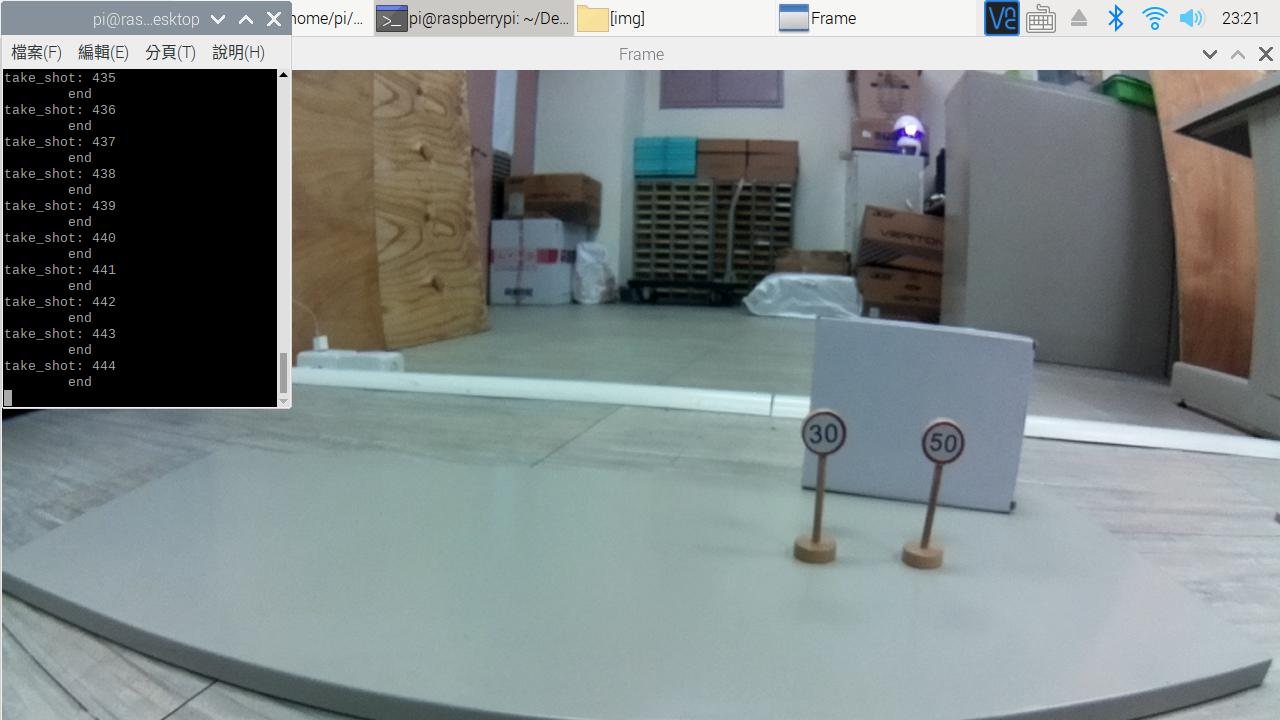Speed30: (791, 403, 861, 470)
Speed50: (911, 414, 978, 472)
